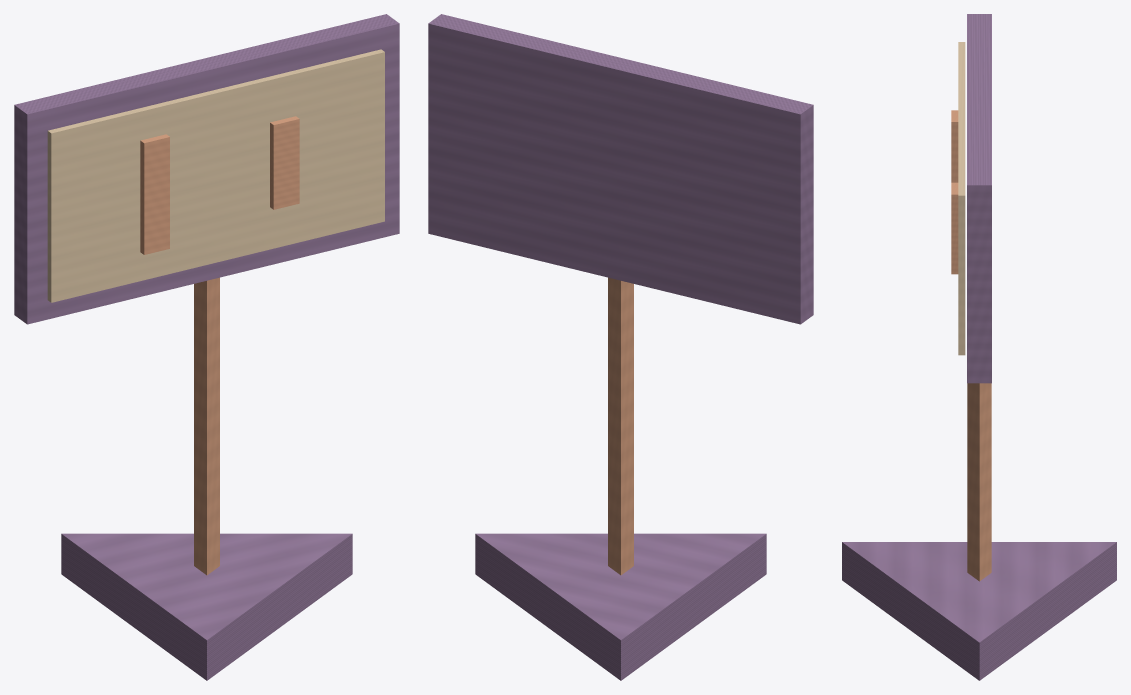
Rendered from atlas100-s083-a11.lod1.glb.
3 views of the same model, side by side, from view 1: azimuth 30°, elevation 25°; view 2: azimuth 150°, elevation 25°; view 3: azimuth 270°, elevation 25° (orthographic). The views are drawn at different scales.
Parts seen in each view (by area): view 1: atlas100-s083-a11:part-003, atlas100-s083-a11:part-002, atlas100-s083-a11:part-000, atlas100-s083-a11:part-001, atlas100-s083-a11:part-004, atlas100-s083-a11:part-006; view 2: atlas100-s083-a11:part-002, atlas100-s083-a11:part-000, atlas100-s083-a11:part-001; view 3: atlas100-s083-a11:part-000, atlas100-s083-a11:part-002, atlas100-s083-a11:part-001, atlas100-s083-a11:part-003, atlas100-s083-a11:part-006, atlas100-s083-a11:part-004.
Boxes of the visible parts, x1,y1,x2,y2 form: atlas100-s083-a11:part-003: (47, 49, 384, 302); atlas100-s083-a11:part-002: (14, 14, 399, 324); atlas100-s083-a11:part-000: (61, 533, 352, 680); atlas100-s083-a11:part-001: (194, 277, 219, 575); atlas100-s083-a11:part-004: (140, 134, 169, 254); atlas100-s083-a11:part-006: (270, 116, 299, 209); atlas100-s083-a11:part-002: (428, 14, 813, 324); atlas100-s083-a11:part-000: (475, 533, 766, 680); atlas100-s083-a11:part-001: (608, 277, 633, 575); atlas100-s083-a11:part-000: (842, 542, 1116, 680); atlas100-s083-a11:part-002: (967, 14, 991, 383); atlas100-s083-a11:part-001: (967, 383, 991, 581); atlas100-s083-a11:part-003: (958, 42, 965, 355); atlas100-s083-a11:part-006: (951, 182, 958, 274); atlas100-s083-a11:part-004: (951, 110, 958, 182).
Bounding box in the file's own units: 1.15 × 1.61 × 0.7794.
3 materials, 3 textured.
